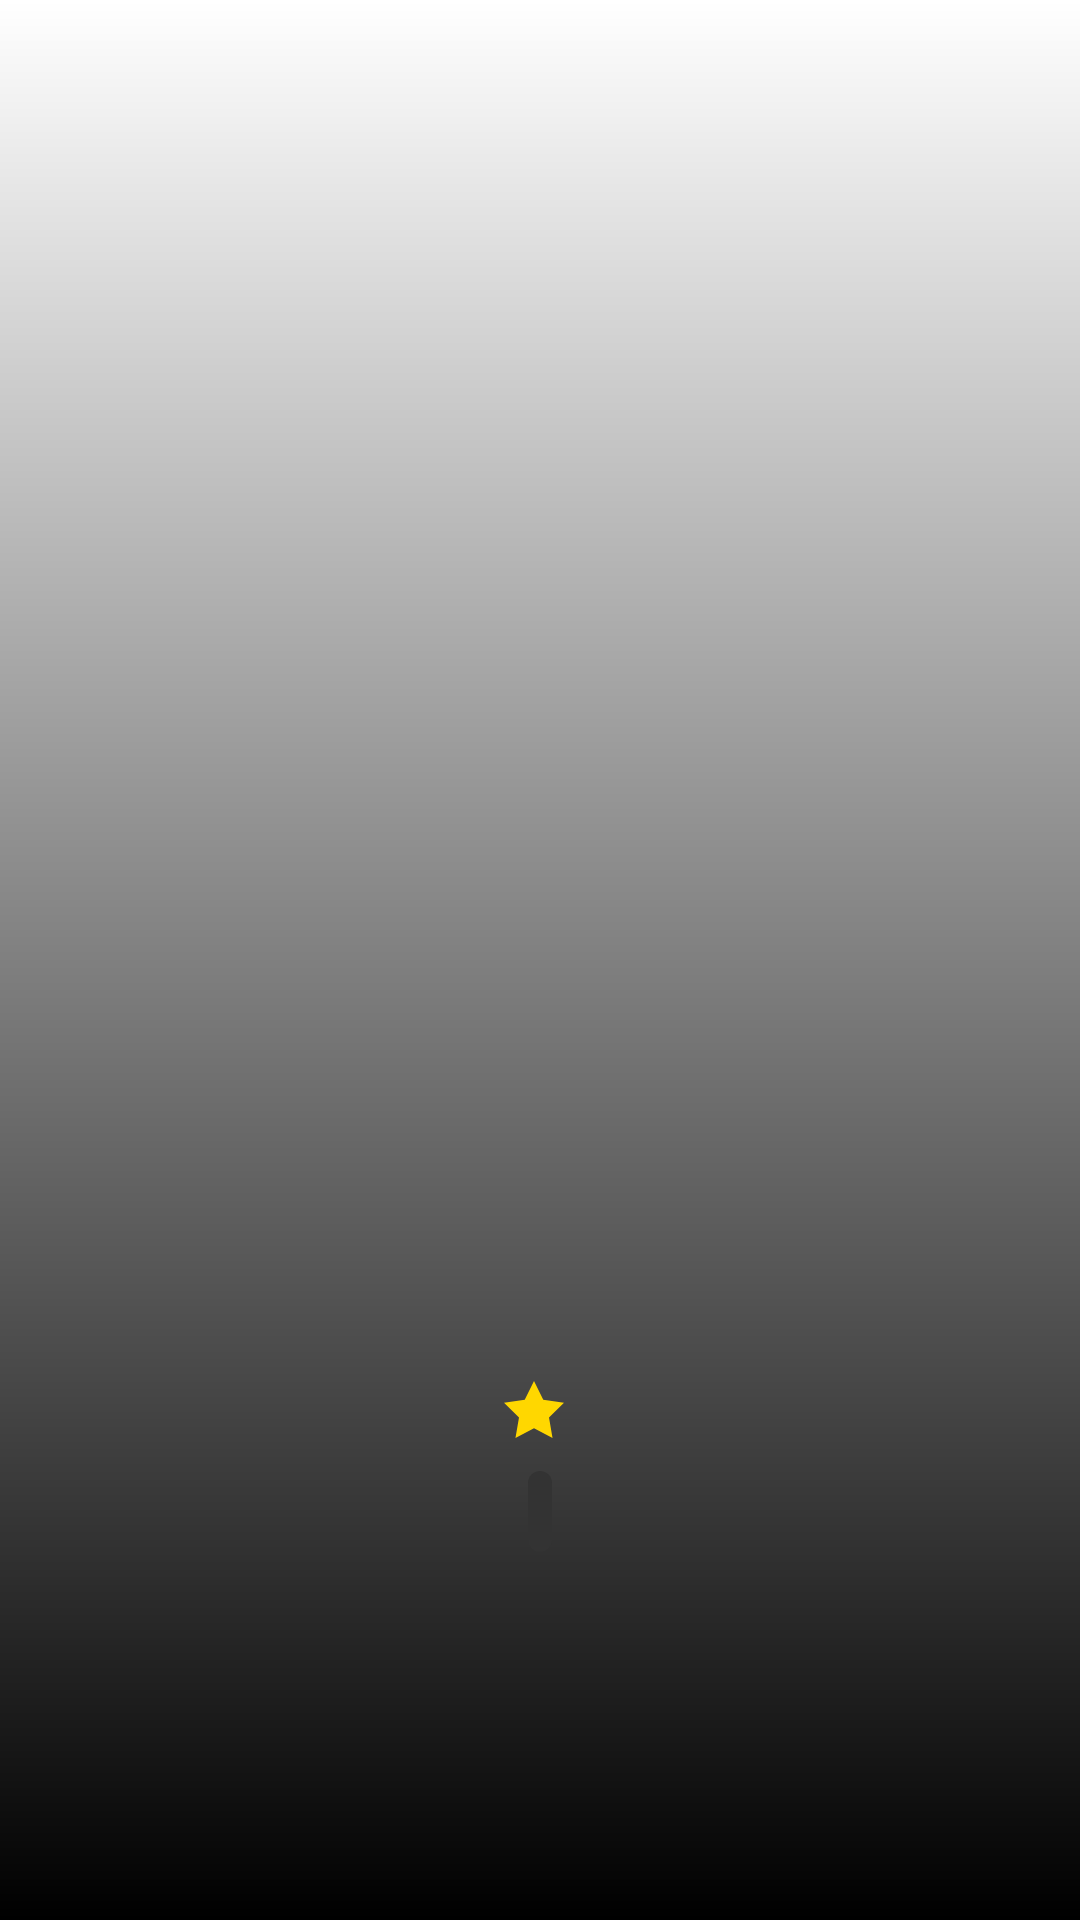

Icon click points for this 1080px×1920px phone screenshot, format (x,y):
star: (534,1409)
